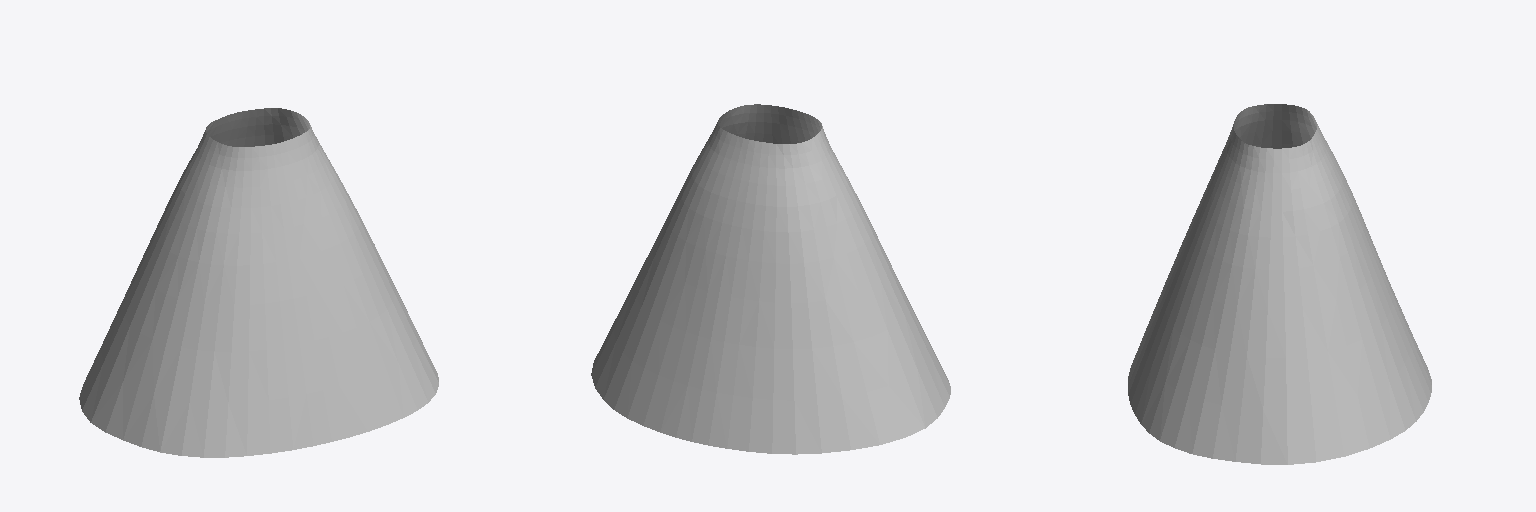
File: 2_skirtlongfull.obj
3 renders of one model, left to right at view 1: azimuth 30°, elevation 25°; view 2: azimuth 150°, elevation 25°; view 3: azimuth 270°, elevation 25°, orthographic.
Visible parts, largest first — view 1: skirtfront, skirtbackleft, skirtback, skirtbackright; view 2: skirtback, skirtbackleft, skirtfront, skirtbackright; view 3: skirtfront, skirtbackright, skirtback, skirtbackleft.
Boxes of the visible parts, x1,y1,x2,y2 form: skirtfront: [91, 115, 438, 457]; skirtbackleft: [79, 120, 215, 422]; skirtback: [208, 109, 264, 146]; skirtbackright: [264, 108, 307, 144]; skirtback: [627, 132, 776, 453]; skirtbackleft: [772, 138, 924, 454]; skirtfront: [718, 104, 950, 428]; skirtbackright: [591, 117, 727, 417]; skirtfront: [1128, 104, 1287, 464]; skirtbackright: [1282, 139, 1415, 464]; skirtback: [1312, 116, 1431, 421]; skirtbackleft: [1282, 104, 1316, 147].
Size of the model in its own units: 32.67 by 25.21 by 26.69.